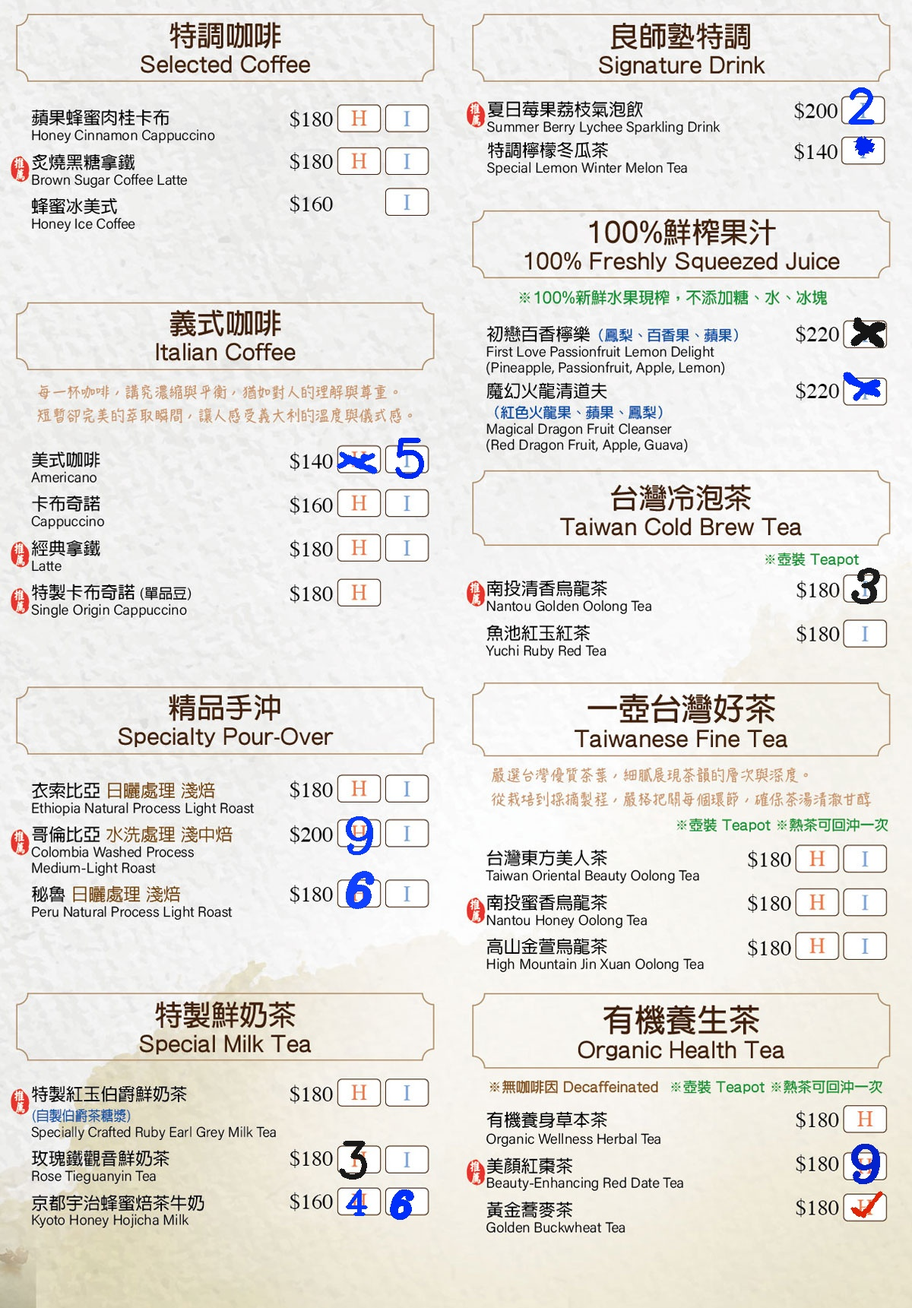marked_circle: (842, 138, 881, 162)
marked_number_2: (844, 98, 883, 122)
marked_number_3: (340, 1146, 379, 1170), (846, 576, 885, 600)
marked_number_4: (340, 1189, 379, 1212)
marked_number_5: (388, 446, 426, 470)
marked_number_6: (338, 879, 377, 903), (387, 1189, 426, 1212)
marked_number_9: (846, 1153, 885, 1177), (339, 822, 378, 845)
marked_tick: (845, 1194, 884, 1218)
marked_x: (845, 378, 884, 402), (845, 321, 884, 345), (340, 447, 378, 470)
